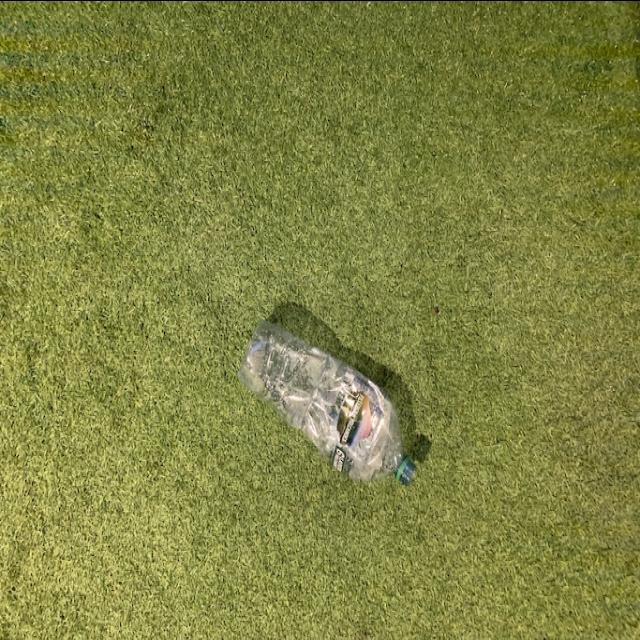PET: (234, 319, 432, 501)
